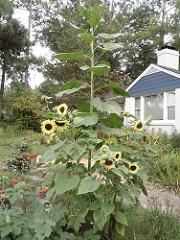sunflower: (39, 120, 56, 133), (127, 162, 138, 173), (134, 119, 144, 131), (57, 103, 66, 115), (101, 158, 114, 166), (114, 150, 121, 160)
